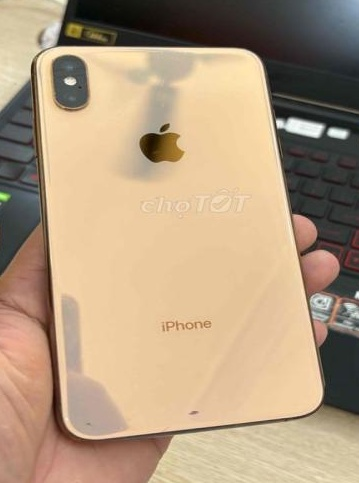scratch: (161, 394, 226, 429), (38, 81, 72, 110), (74, 415, 101, 434)
